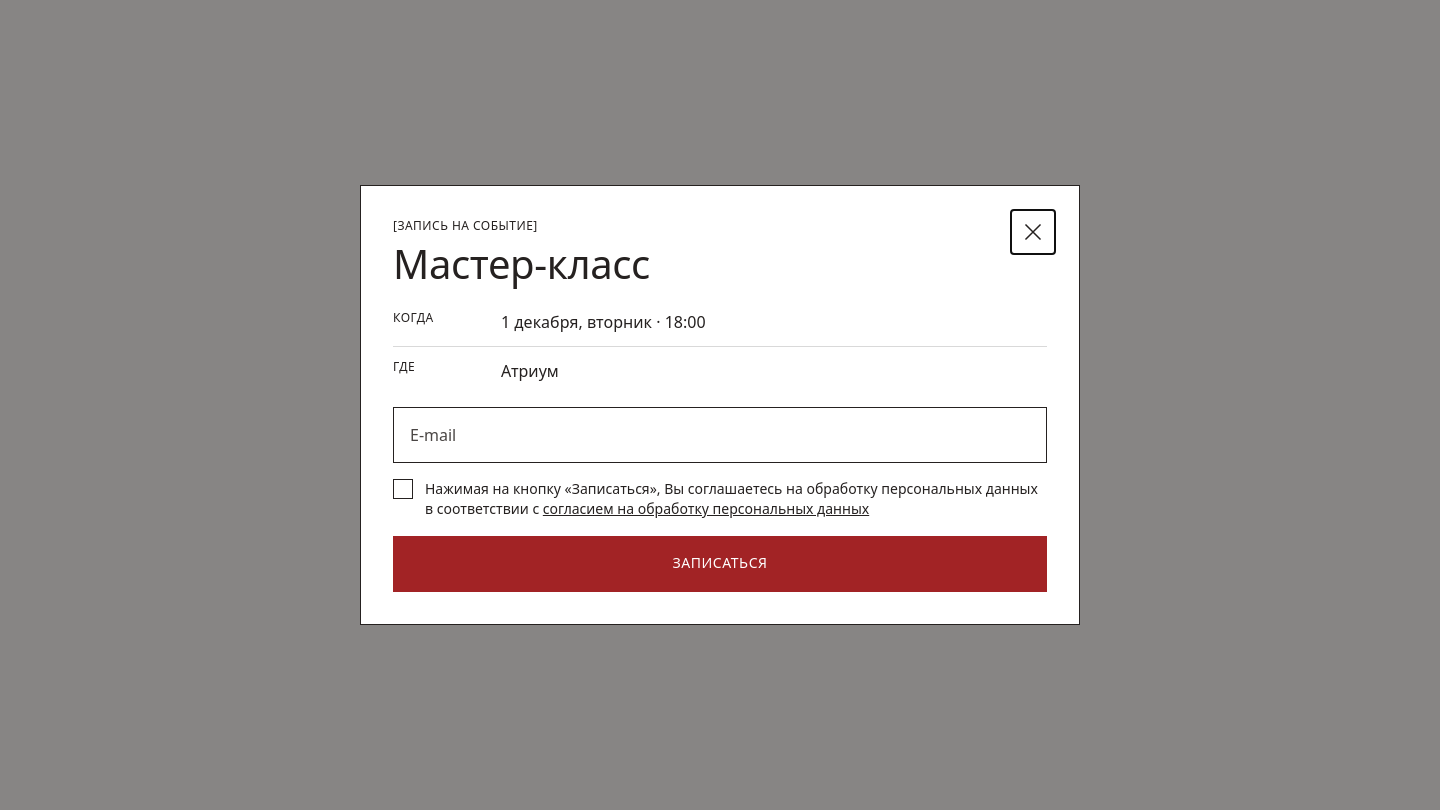
Scenario: запись на событие › с согласием отправляет запись и пишет об успехе
The image size is (1440, 810).
In the field labelled "E-mail": (720, 435) [393,407,1047,463], type "a@b.co"
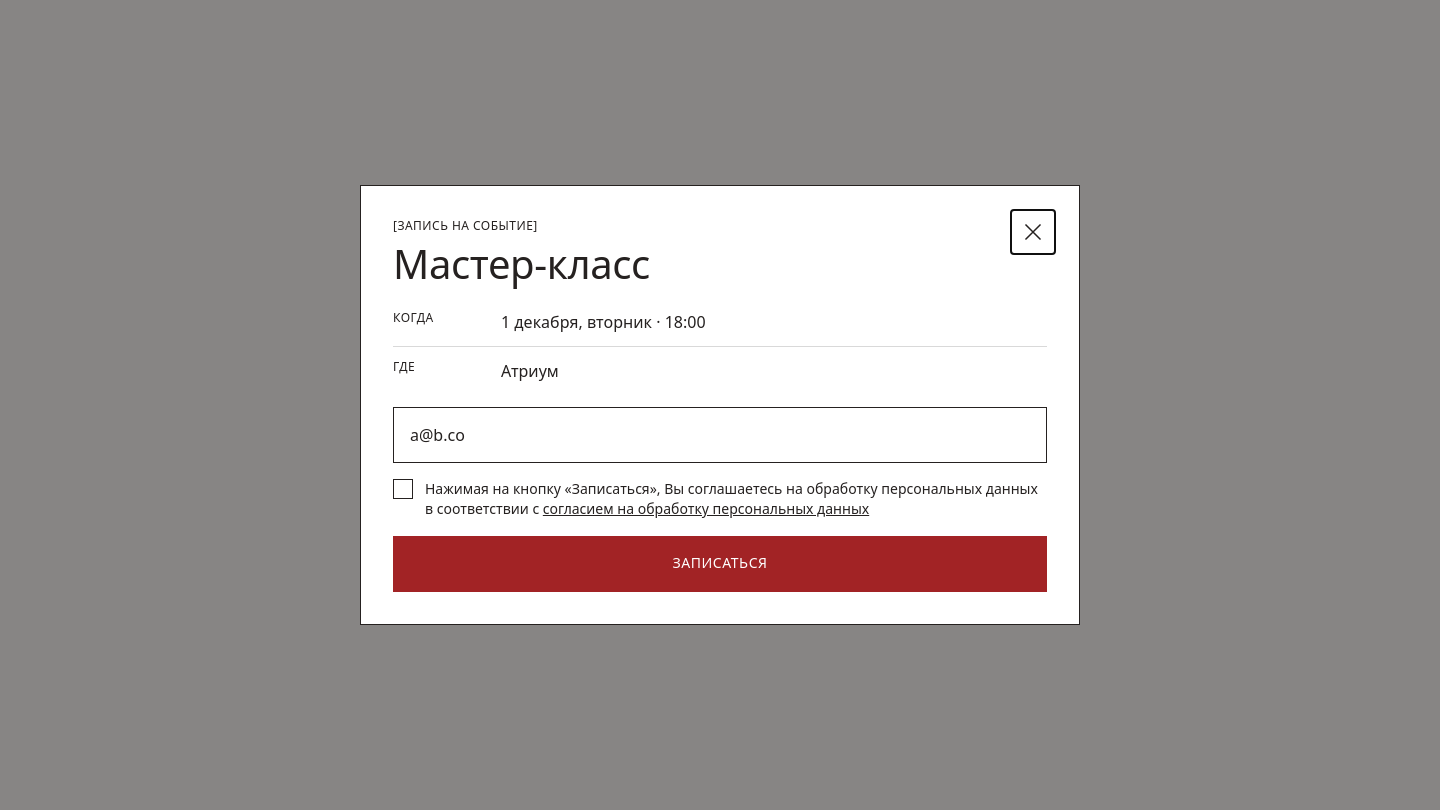
Click the checkbox: (720, 499) [393,479,1047,520]
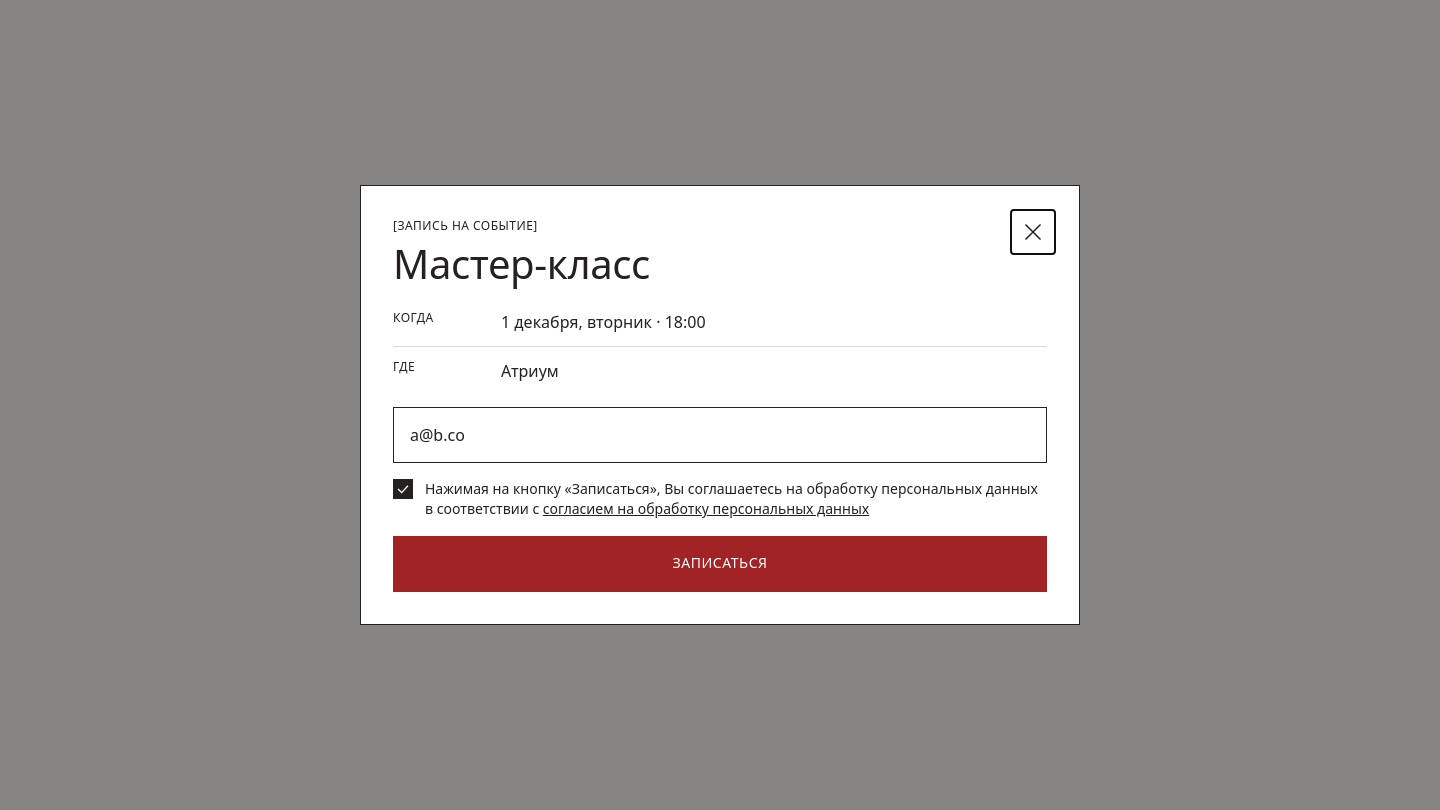
Click the button "Записаться": (720, 564) [393,536,1047,592]
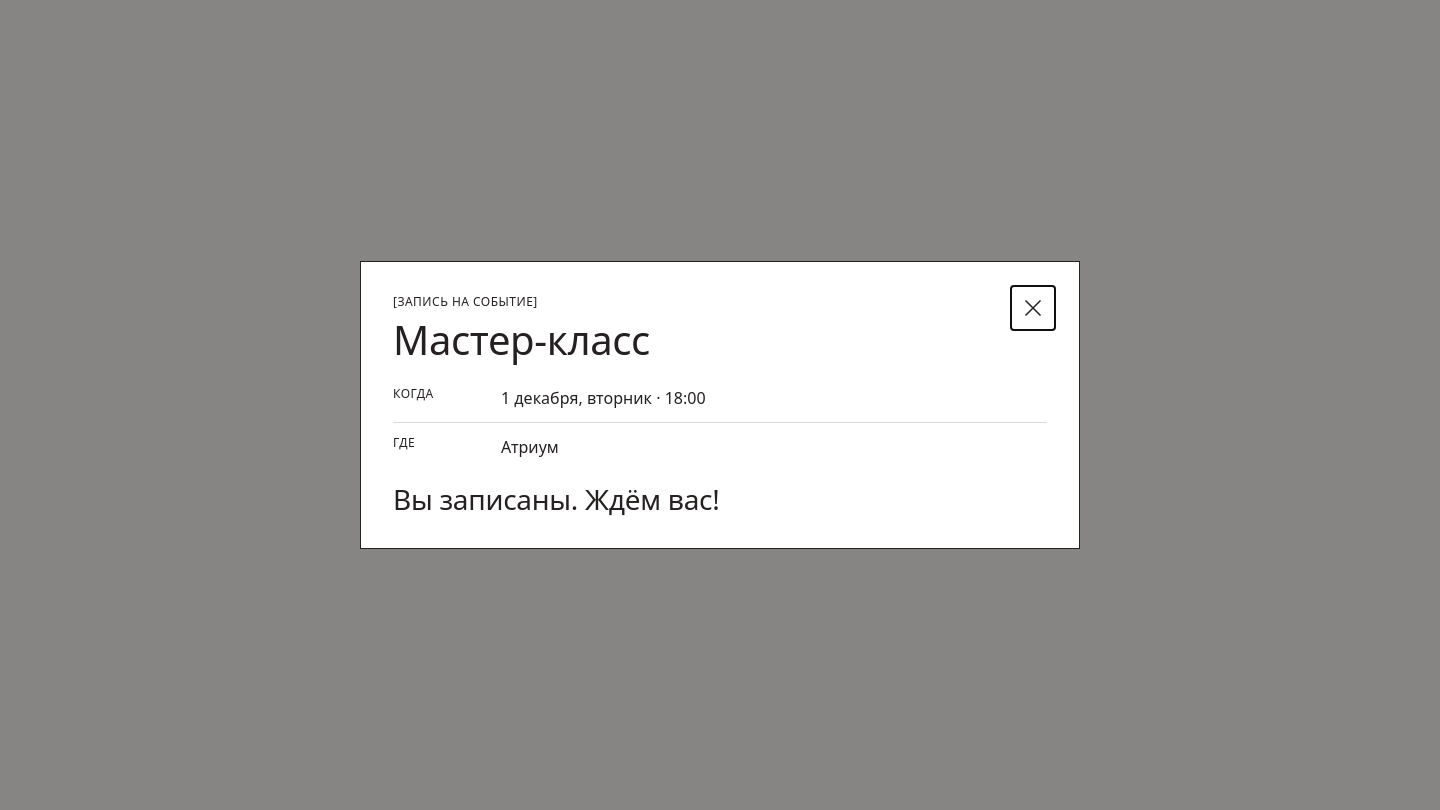
Check: the text "Вы записаны. Ждём вас!" is shown, box [393,480,720,518]
